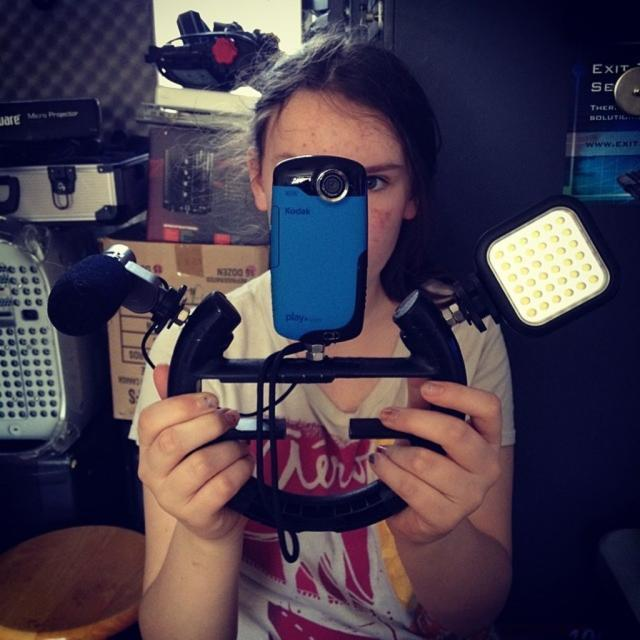Phone: (266, 154, 372, 343)
